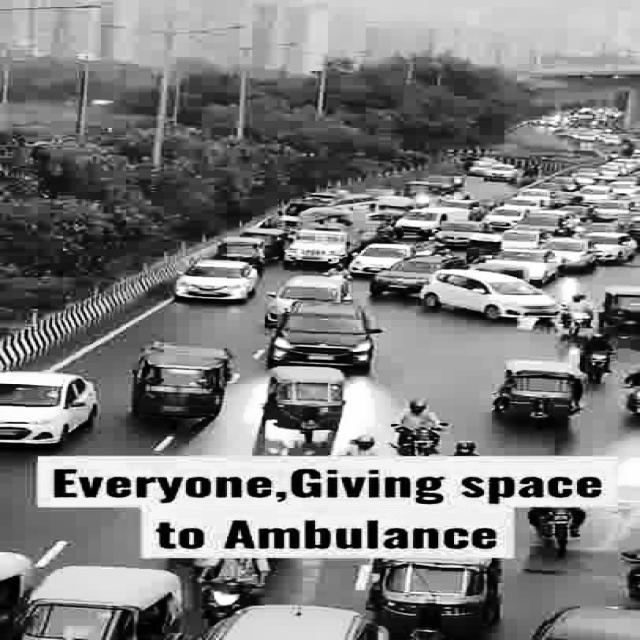Ambulance: (290, 191, 382, 216)
